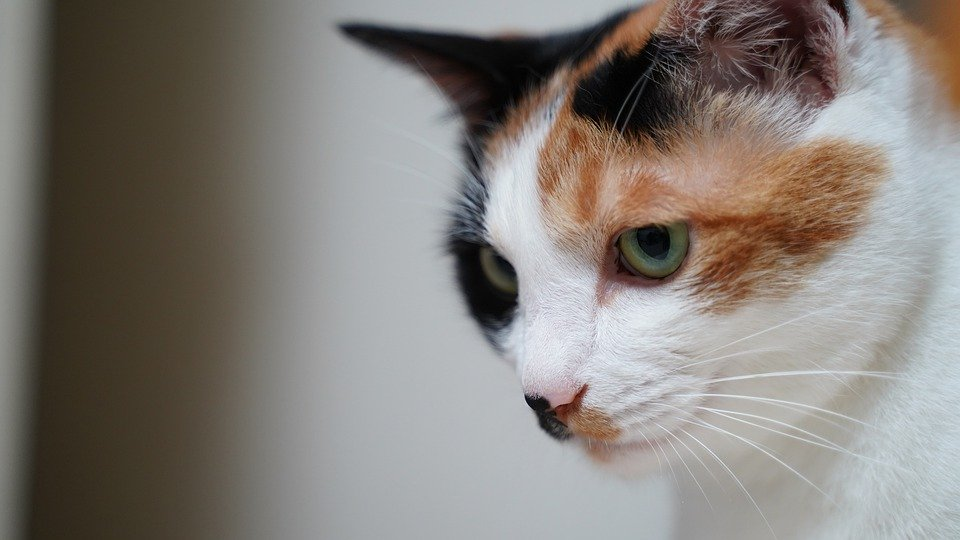cat-face: (335, 1, 913, 494)
